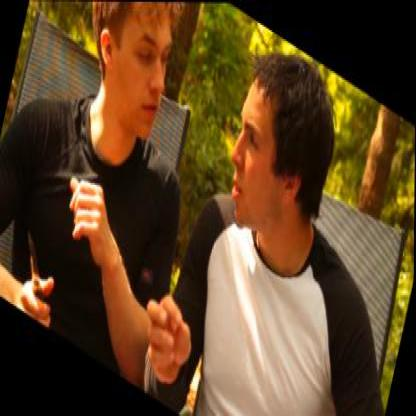knife: (6, 216, 72, 330)
